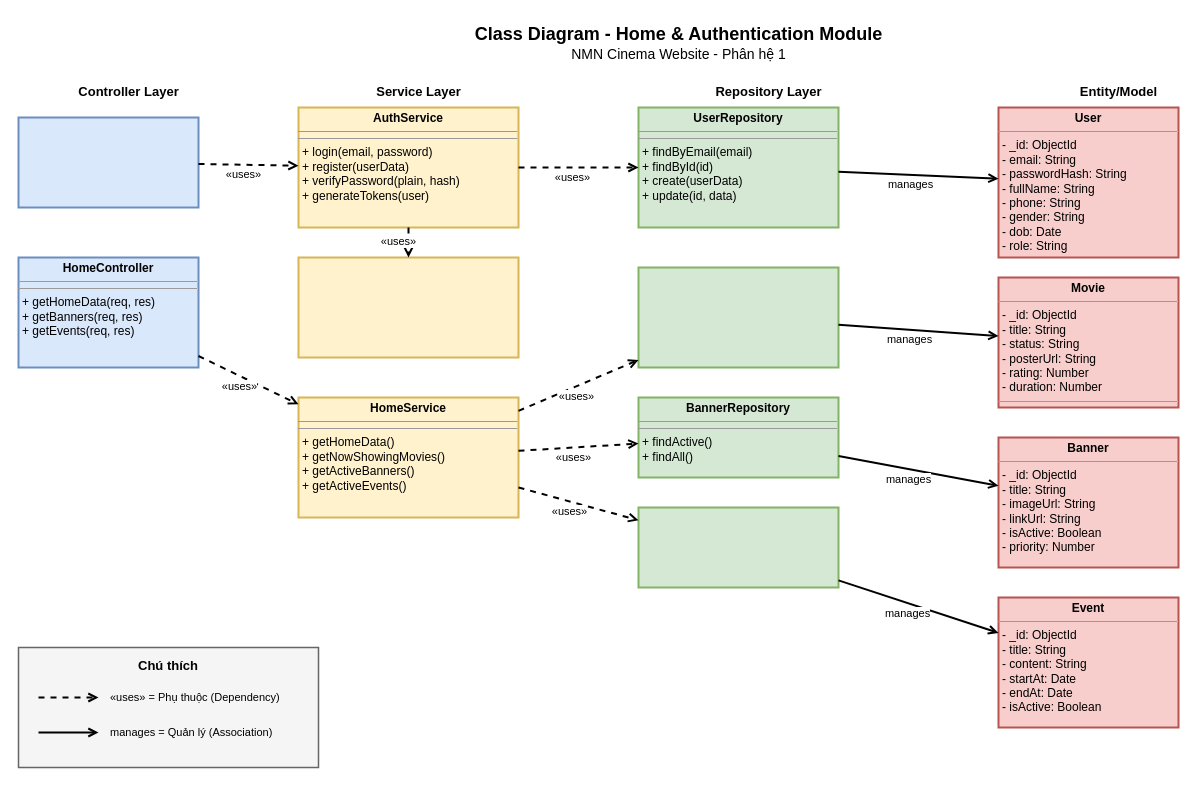
The diagram is 1196 pixels wide and 785 high, and some of its shapes have lost their labels. The shapes that lost their labels are listed below. From the top down, each one's centre as x and y in pixels, then its label:
point (108, 162): AuthController + login(req, res) + register(req, res)
point (408, 307): JwtService + signToken(payload) + verifyToken(token) + decodeToken(token)
point (738, 317): MovieRepository + findByStatus(status) + findById(id) + findAll(limit)
point (738, 547): EventRepository + findActive() + findById(id)
